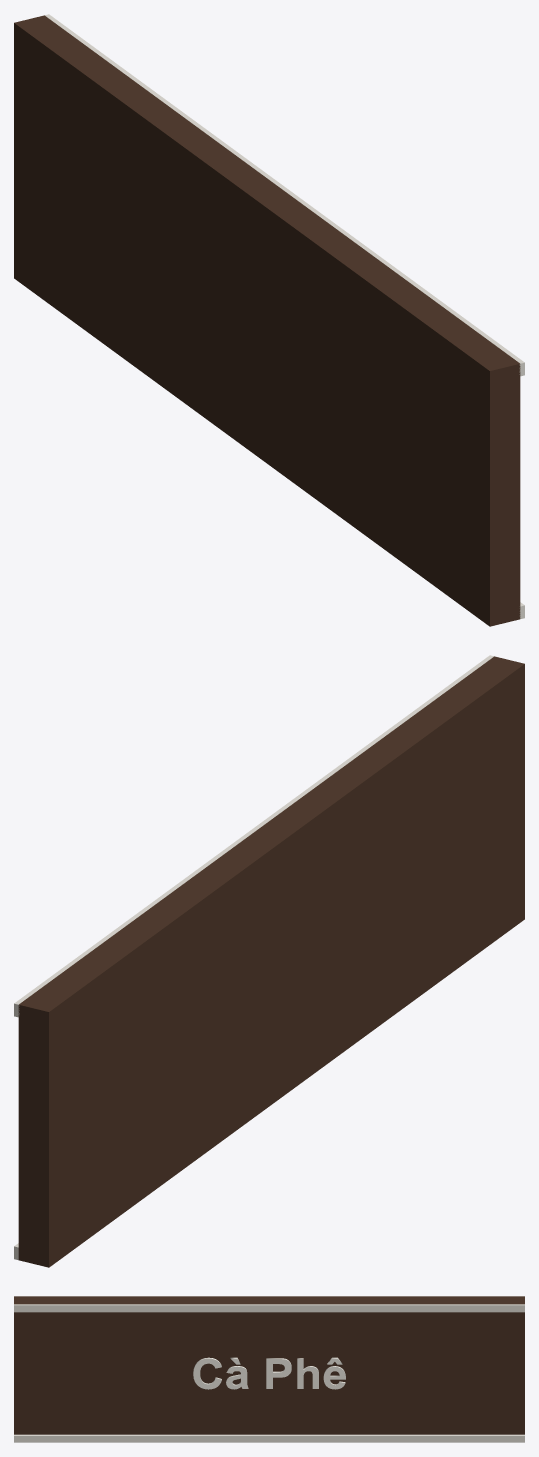
File: OW_Mau_Bang_6_0_3.fbx
3 renders of one model, top to bottom at view 1: azimuth 30°, elevation 25°; view 2: azimuth 150°, elevation 25°; view 3: azimuth 270°, elevation 25°, orthographic. The views are drawn at different scales.
Parts seen in each view (by area): view 1: OW_Bang_Cà Phê.003; view 2: OW_Bang_Cà Phê.003; view 3: OW_Bang_Cà Phê.003, Chữ • Cà Phê.003_Mesh.
Boxes of the visible parts, box(x1,y1,x2,y2) form: OW_Bang_Cà Phê.003: box(14, 14, 524, 626); OW_Bang_Cà Phê.003: box(14, 655, 524, 1267); OW_Bang_Cà Phê.003: box(14, 1296, 524, 1442); Chữ • Cà Phê.003_Mesh: box(193, 1357, 345, 1389).
Bounding box in the file's own units: 0.24 × 1.6 × 5.4.
